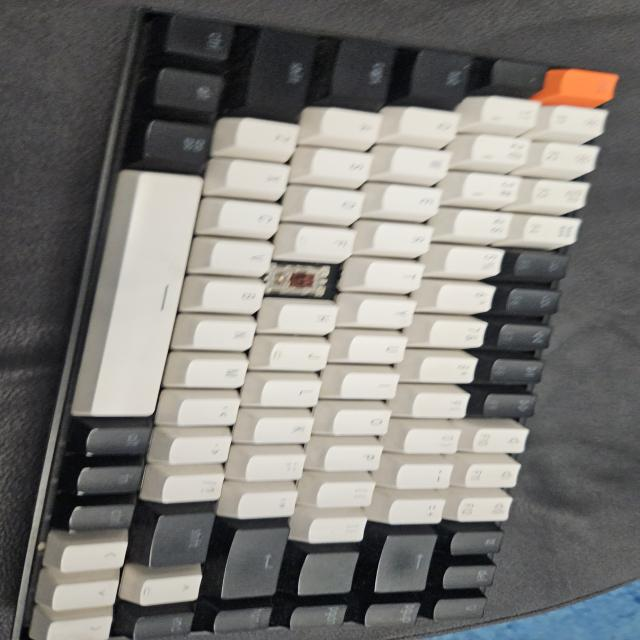C: (273, 264, 329, 294)
